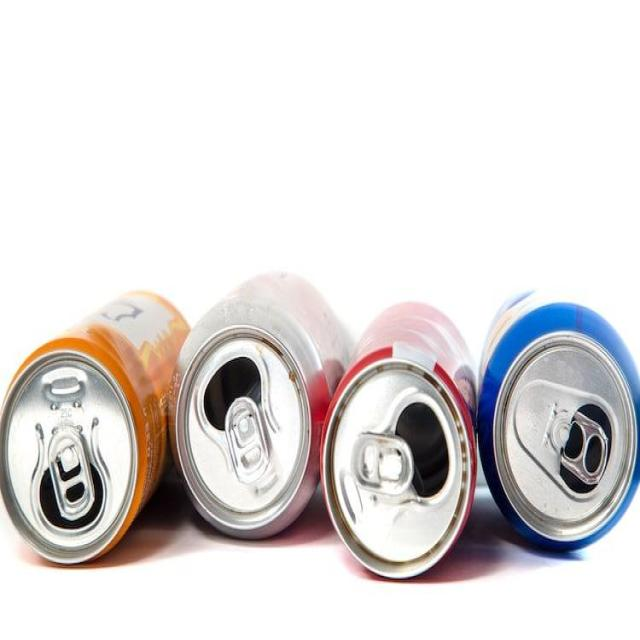can: (1, 288, 191, 566), (168, 270, 356, 541), (319, 300, 477, 584), (476, 288, 640, 561)
pop tab: (48, 429, 95, 521), (226, 395, 270, 484), (351, 431, 413, 492), (558, 412, 608, 485)
